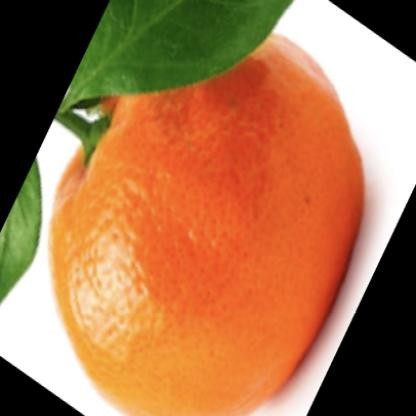fresh: (46, 21, 366, 416)
